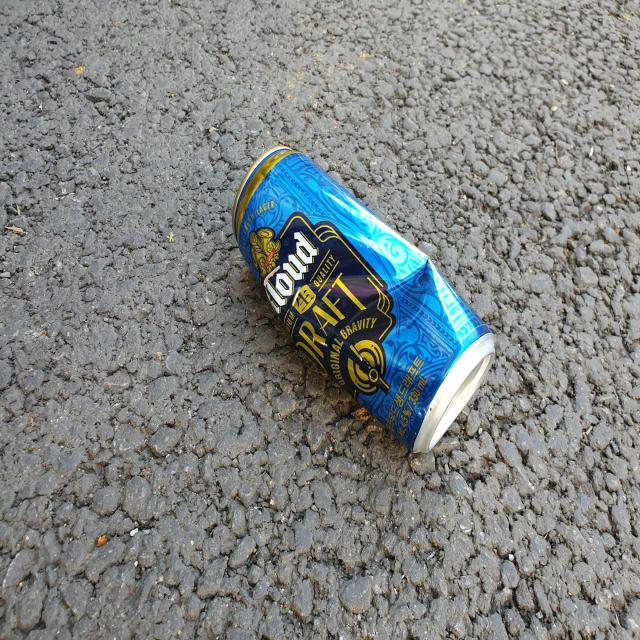can: (232, 145, 496, 453)
